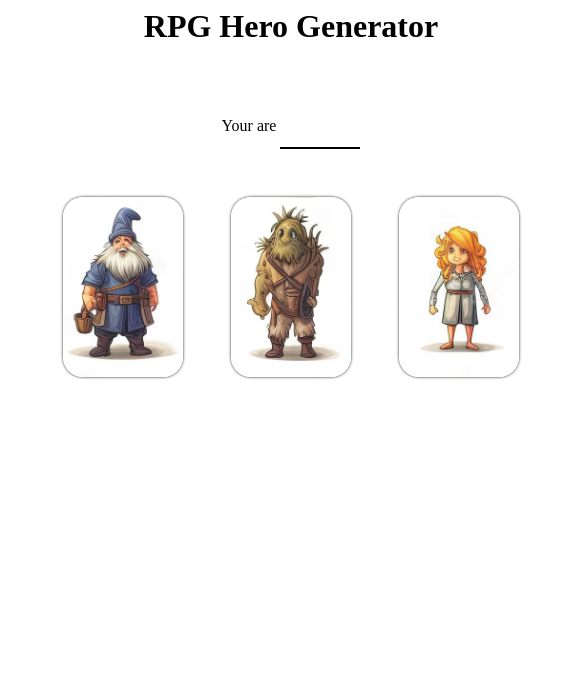
Test: Give bonus points › Resets bonus points when changing character
Click the 3rd element with test id "hero-card".
click(459, 287)  # box left=399, top=197, right=519, bottom=377
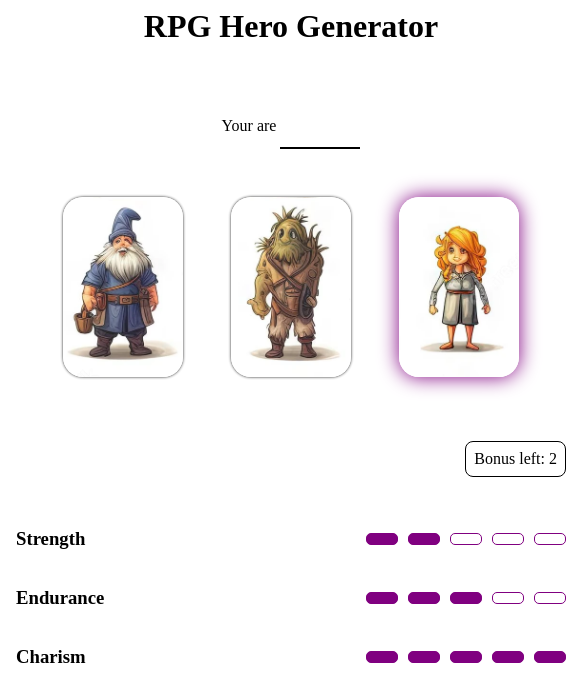
Click the 4th element with test id "gauge-unit".
click(508, 539)  # box left=492, top=533, right=524, bottom=545
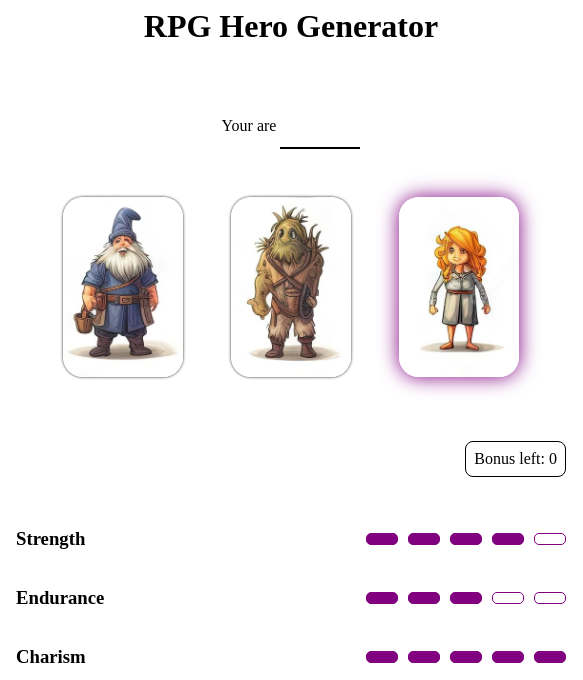
Expected: the text with test id "bonus-counter" reads "0", left=549, top=450, right=557, bottom=467
Click the 1st element with test id "hero-card".
click(123, 287)  # box left=63, top=197, right=183, bottom=377
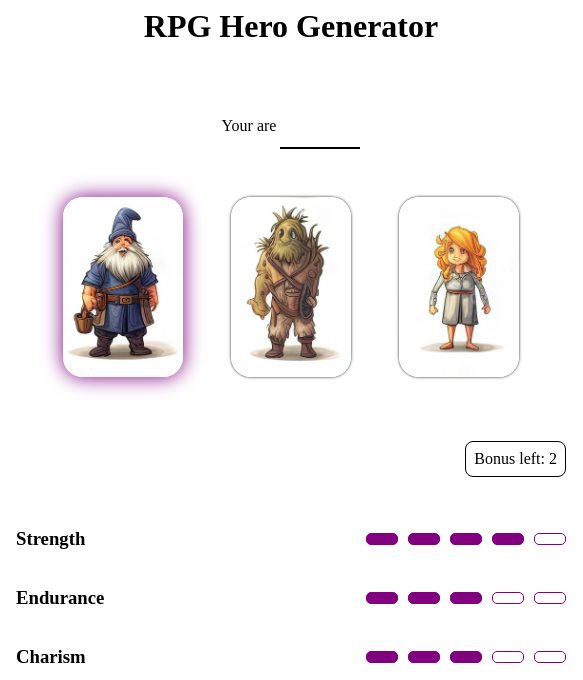
Expected: the text with test id "bonus-counter" reads "2", left=549, top=450, right=557, bottom=467
